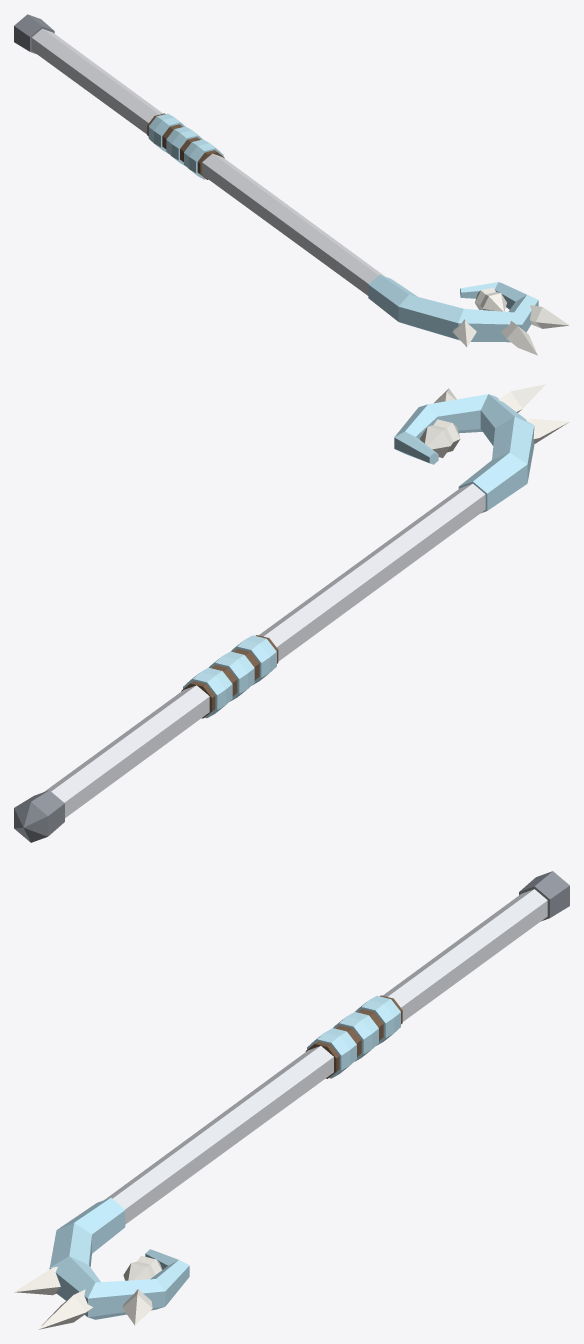
The model's file is tidecaller.glb.
3 views of the same model, one above another, from view 1: azimuth 30°, elevation 25°; view 2: azimuth 150°, elevation 25°; view 3: azimuth 330°, elevation 25° (orthographic). The views are drawn at different scales.
Parts seen in each view (by area): view 1: tidecaller; view 2: tidecaller; view 3: tidecaller.
Part boxes in pixels (x1,y1,x2,y2): tidecaller: (14, 14, 569, 355); tidecaller: (14, 384, 569, 842); tidecaller: (14, 871, 569, 1329).
Bounding box in the file's own units: 0.2341 × 0.062 × 1.59.
